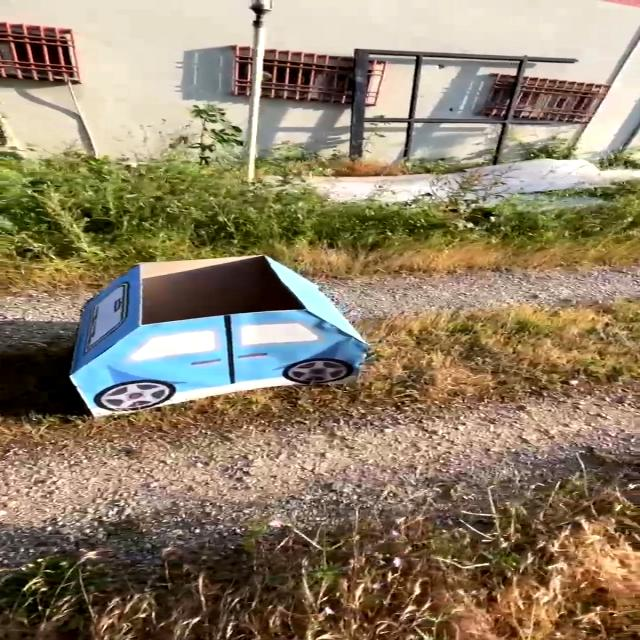blue_car: (31, 237, 409, 443)
